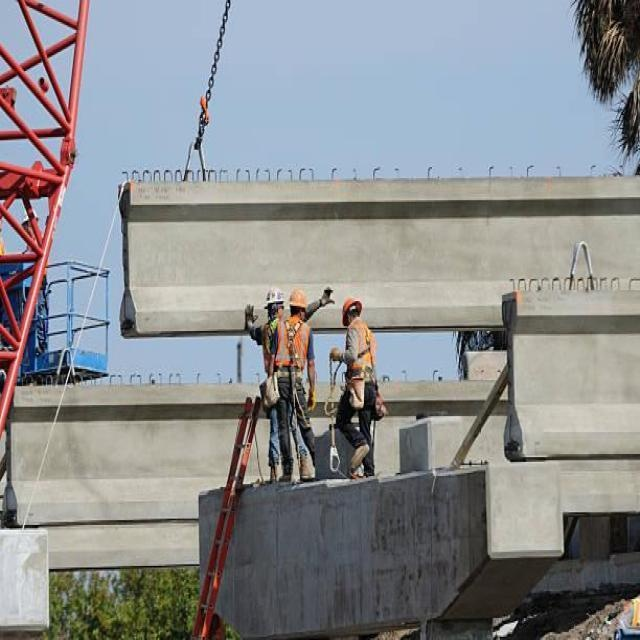Arnes_seguridad: (347, 321, 377, 390), (275, 316, 304, 381)
